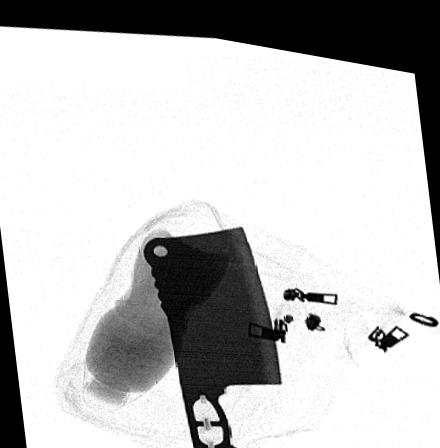Knife: (141, 214, 282, 448)
